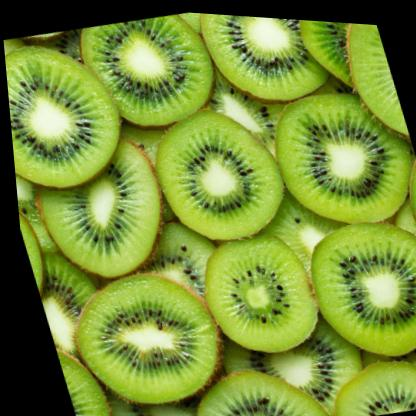kiwi: (51, 252, 237, 416), (242, 68, 416, 241), (12, 125, 179, 297), (128, 90, 298, 253), (1, 20, 142, 204), (59, 3, 232, 148), (285, 193, 416, 368), (177, 215, 329, 364), (186, 10, 343, 116)
